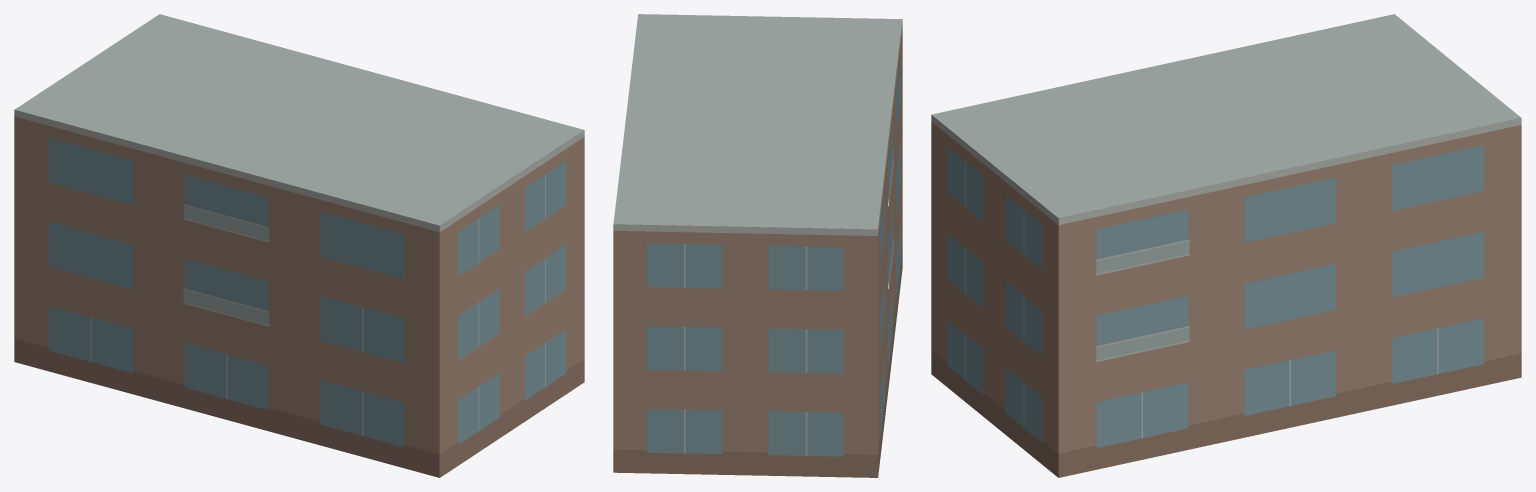
The model's file is survey-upis-32710333.glb.
3 renders of one model, left to right at view 1: azimuth 30°, elevation 25°; view 2: azimuth 150°, elevation 25°; view 3: azimuth 270°, elevation 25°, orthographic. The views are drawn at different scales.
Parts seen in each view (by area): view 1: survey-upis-32710333.tmp; view 2: survey-upis-32710333.tmp; view 3: survey-upis-32710333.tmp.
Boxes of the visible parts, x1,y1,x2,y2 form: survey-upis-32710333.tmp: (14, 14, 584, 477); survey-upis-32710333.tmp: (613, 14, 902, 477); survey-upis-32710333.tmp: (931, 14, 1521, 477).
Size of the model in its own units: 15.45 by 9.15 by 18.87.
